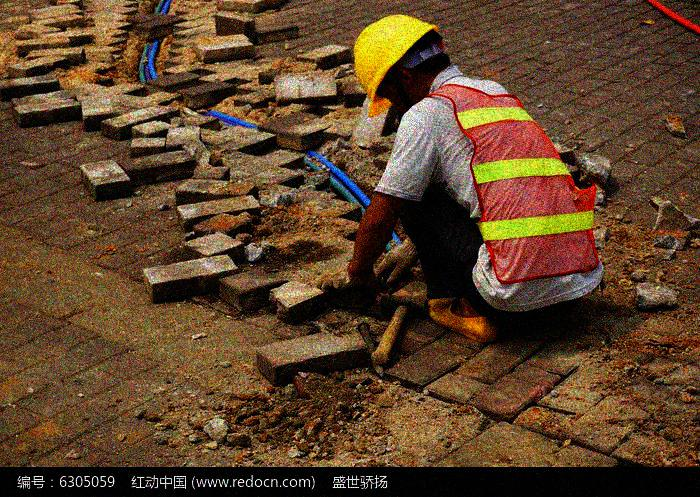helmet: (352, 11, 453, 118)
